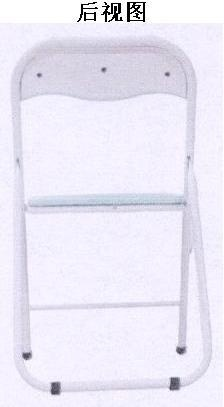obstacle: (12, 39, 210, 392)
